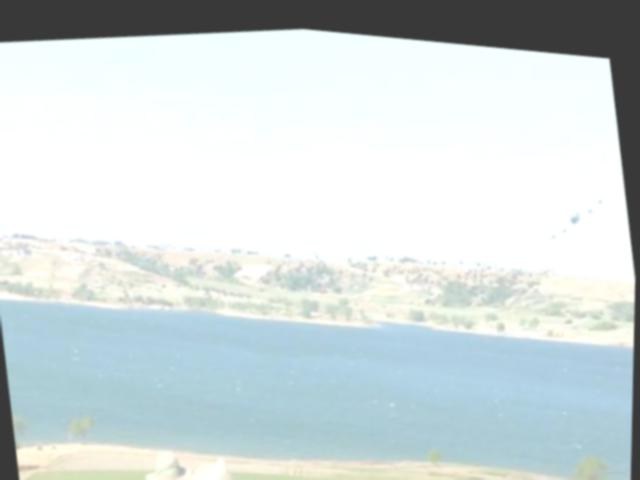iha: (519, 154, 631, 246)
